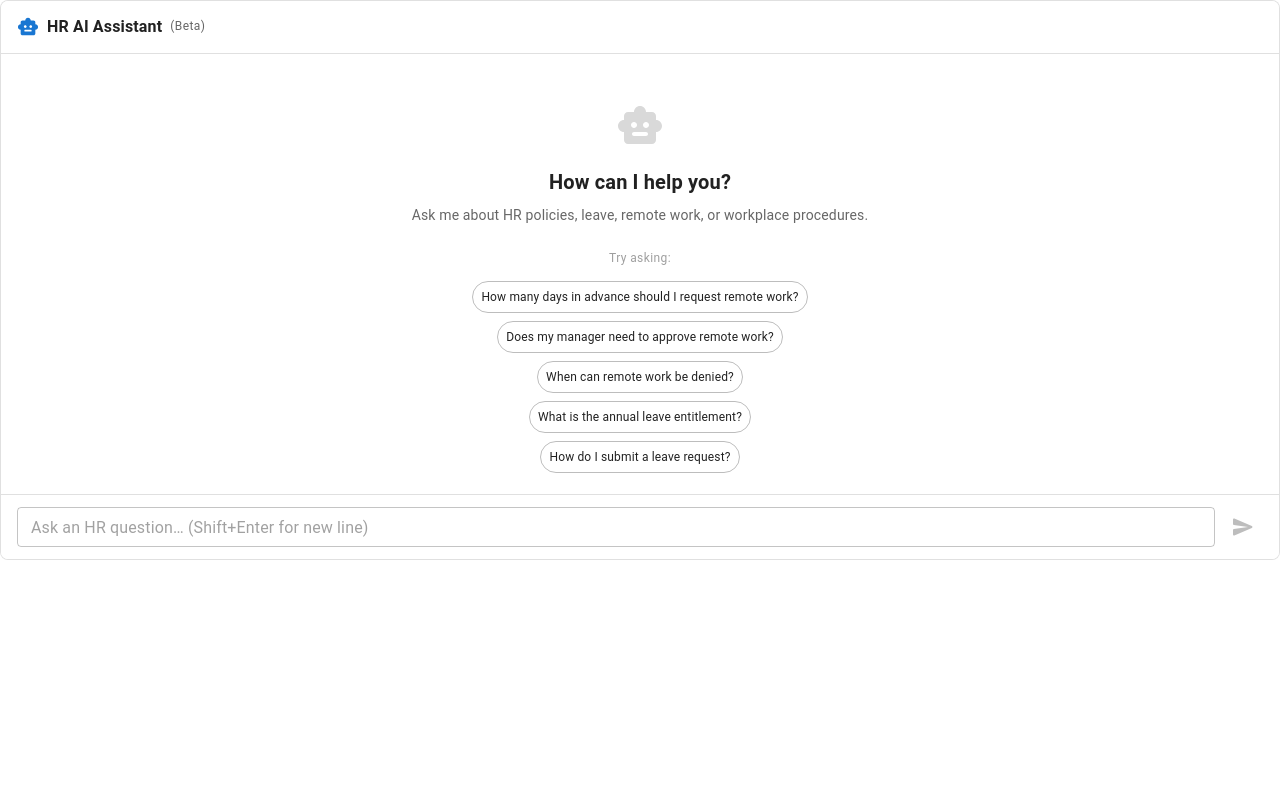
it: AiAssistantChat › Empty state and suggested questions › suggested questions are hidden after the first message is sent
Type "Hello" into the text box named "message input" at (616, 527), box left=31, top=516, right=1201, bottom=538
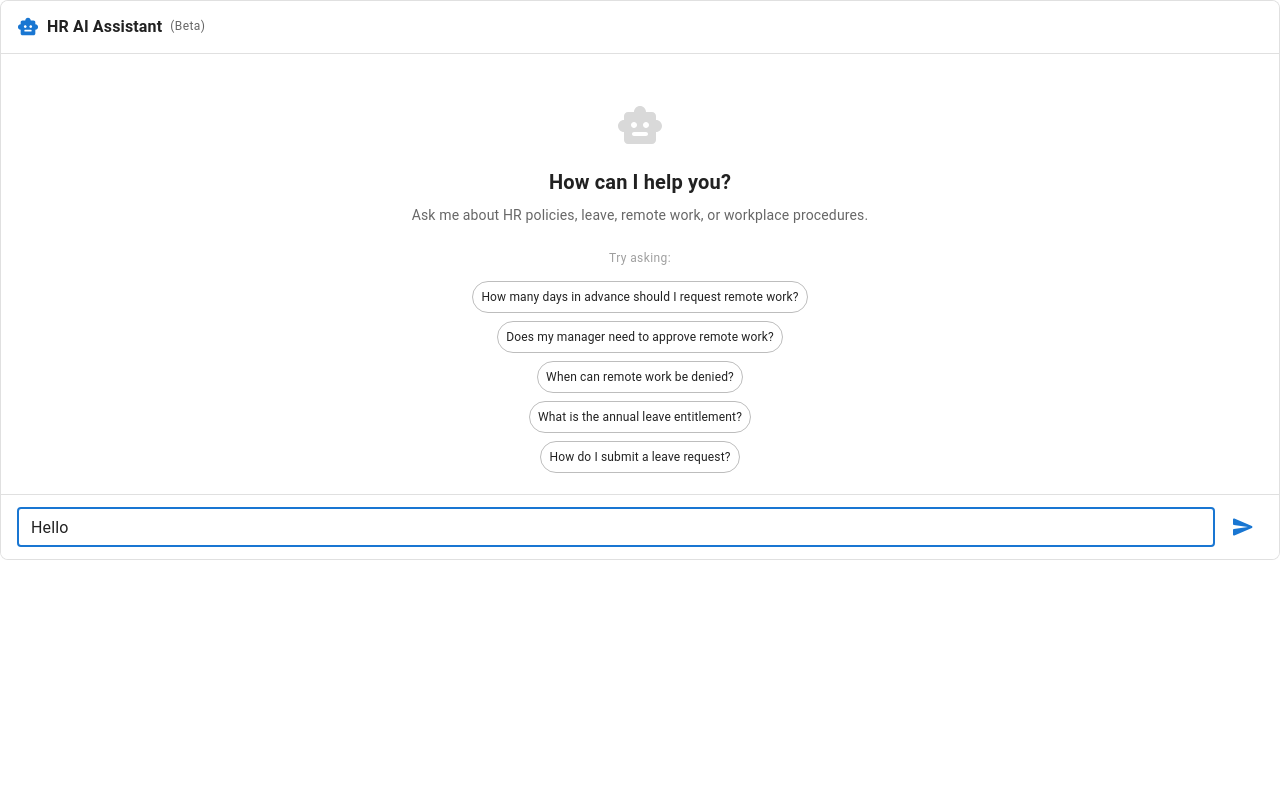
Click the button named "send message" at (1243, 527), box left=1223, top=507, right=1263, bottom=547
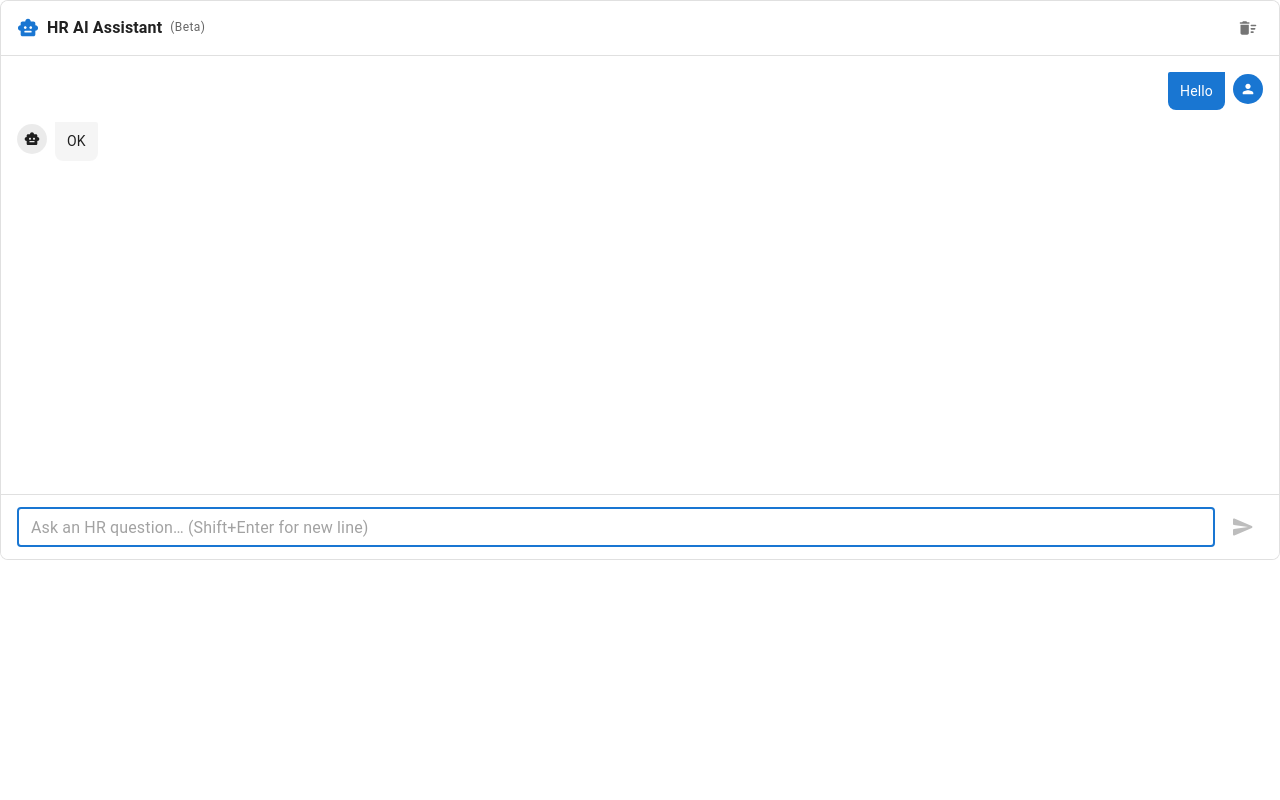
Check: the heading "How can I help you" is gone
